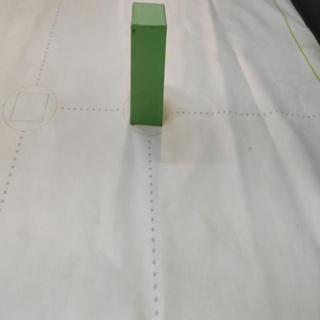greenbox: (129, 0, 169, 128)
